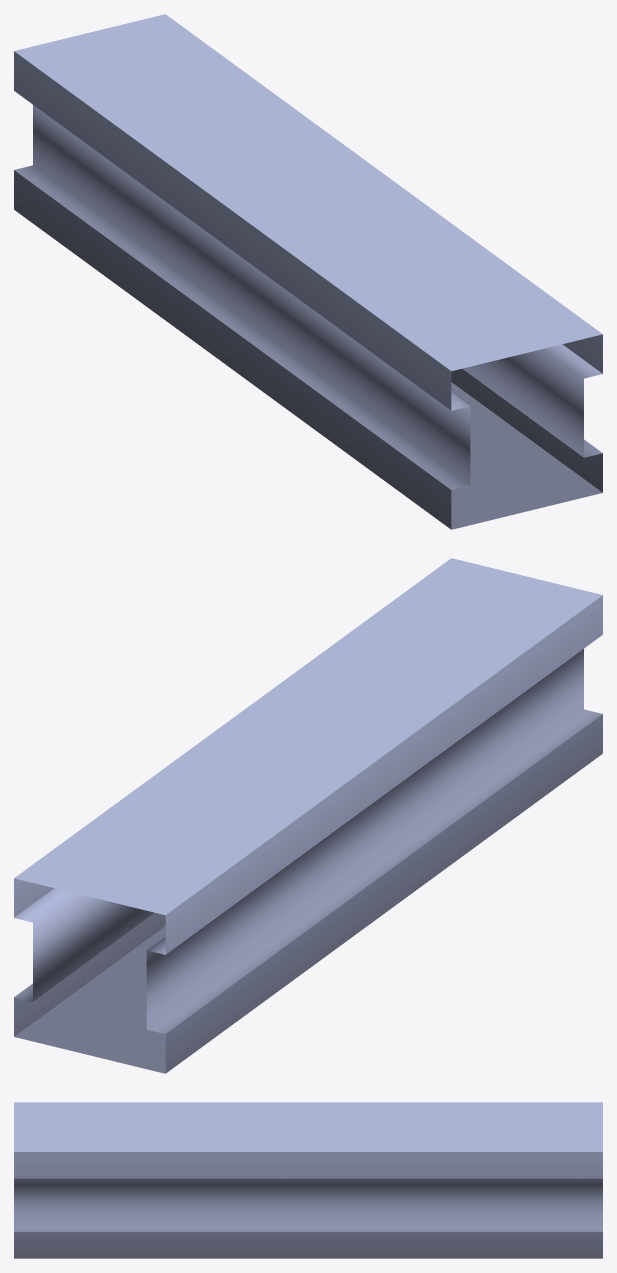
Rendered from coaster-monorail-track.glb.
3 views of the same model, one above another, from view 1: azimuth 30°, elevation 25°; view 2: azimuth 150°, elevation 25°; view 3: azimuth 270°, elevation 25° (orthographic). The views are drawn at different scales.
Parts seen in each view (by area): view 1: coaster-monorail-track; view 2: coaster-monorail-track; view 3: coaster-monorail-track.
Part boxes in pixels (x1=…): coaster-monorail-track: x1=14, y1=14, x2=602, y2=529; coaster-monorail-track: x1=14, y1=558, x2=602, y2=1073; coaster-monorail-track: x1=14, y1=1102, x2=602, y2=1258.
Bounding box in the file's own units: 0.2 × 0.2 × 1.
Materials: 1 (1 with a texture image).
